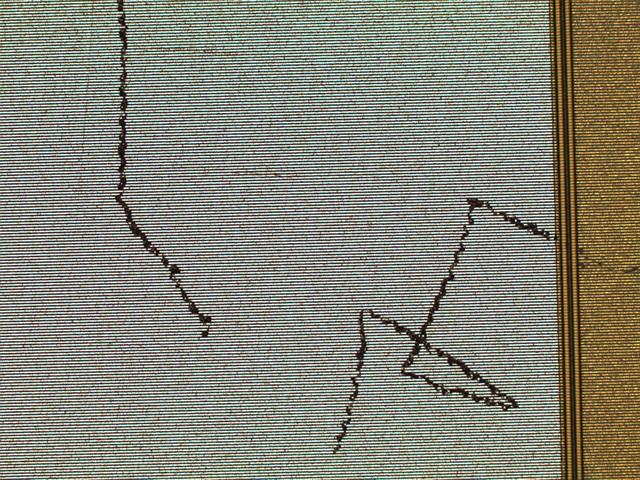SCRATCH: (108, 1, 640, 468)
